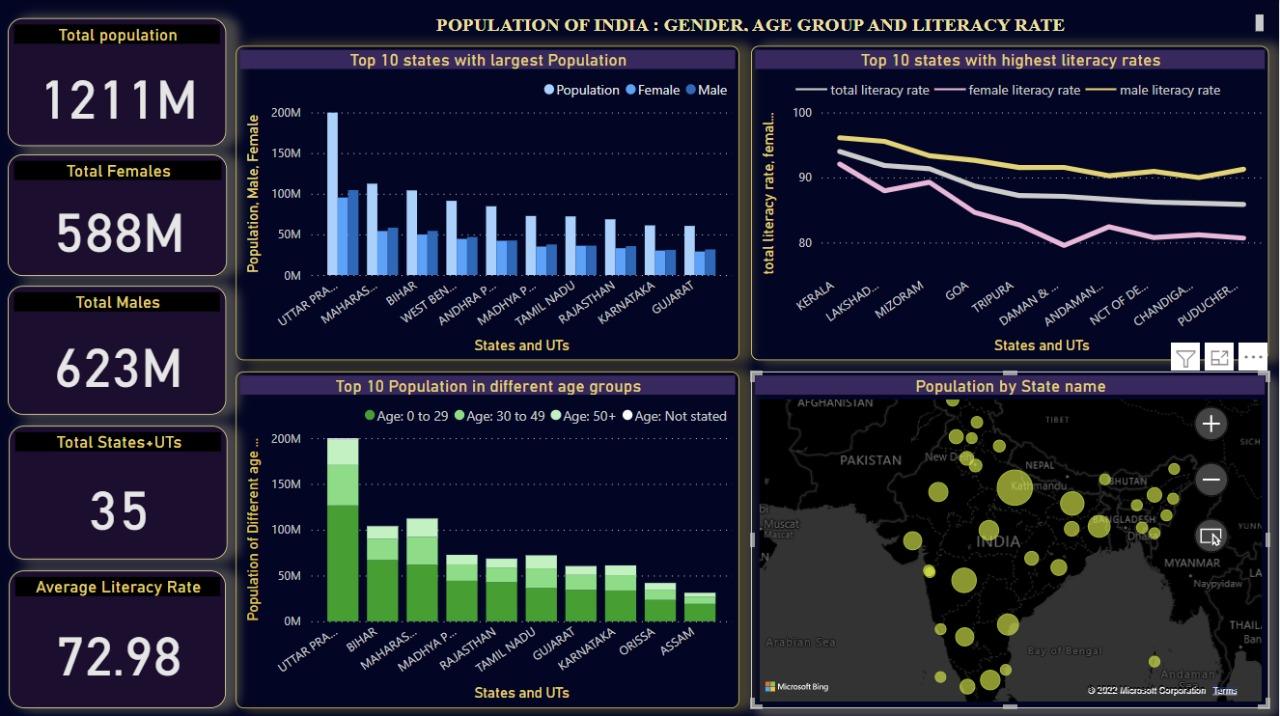

The dashboard page shown, as its layout file describes it:
{"tool":"powerbi","page":{"name":"Page 1","canvas":[1280,720],"ordinal":0},"visuals":[{"type":"card","title":"Total population","fields":{"Values":["Sum(india-districts-census-2011.Population)"]},"box":[9.6,17.9,218.4,127.7],"z":0},{"type":"card","title":"Total Females","fields":{"Values":["Sum(india-districts-census-2011.Female)"]},"box":[9.6,154.4,219.5,121.8],"z":1000},{"type":"card","title":"Total Males","fields":{"Values":["Sum(india-districts-census-2011.Male)"]},"box":[9.6,285.8,218.3,129],"z":2000},{"type":"card","title":"Total States+UTs","fields":{"Values":["Count(india-districts-census-2011.State name)"]},"box":[10.9,425.7,218.3,133.9],"z":3000},{"type":"clusteredColumnChart","title":"Top 10 states with largest Population","fields":{"Y":["Sum(india-districts-census-2011.Population)","Sum(india-districts-census-2011.Female)","Sum(india-districts-census-2011.Male)"],"Category":["india-districts-census-2011.State name"]},"box":[237.6,45.8,502.9,314.8],"z":4000},{"type":"card","title":"Average Literacy Rate","fields":{"Values":["Sum(India.total literacy rate)"]},"box":[11,570,217,137.3],"z":5000},{"type":"lineChart","title":"Top 10 states with highest literacy rates","fields":{"Category":["all ages.state names"],"Y":["Sum(all ages.total literacy rate)","Sum(all ages.female literacy rate)","Sum(all ages.male literacy rate)"]},"box":[752.6,45.8,517.4,314.8],"z":6000},{"type":"columnChart","title":"Top 10 Population in different age groups","fields":{"Category":["india-districts-census-2011.State name"],"Y":["Sum(india-districts-census-2011.Age_Group_0_29)","Sum(india-districts-census-2011.Age_Group_30_49)","Sum(india-districts-census-2011.Age_Group_50)","Sum(india-districts-census-2011.Age not stated)"]},"box":[237.6,371.5,502.9,336.5],"z":7000},{"type":"map","fields":{"Size":["Sum(all ages.total population)"],"Category":["all ages.state names"]},"box":[752.6,371.5,517.4,336.5],"z":8000},{"type":"textbox","box":[252.1,9.6,1017.9,26.5],"z":9000}]}

Visuals, with their boxes in screenshot pixels (x1, y1, x2, y2), scaled from the page's 1280x720 canvas onto the 1280x716 screenshot:
"Total population" card: 10:18:228:145
"Total Females" card: 10:154:229:275
"Total Males" card: 10:284:228:412
"Total States+UTs" card: 11:423:229:556
"Top 10 states with largest Population" clusteredColumnChart: 238:46:740:359
"Average Literacy Rate" card: 11:567:228:703
"Top 10 states with highest literacy rates" lineChart: 753:46:1270:359
"Top 10 Population in different age groups" columnChart: 238:369:740:704
map - Sum(all ages.total population) x all ages.state names: 753:369:1270:704
textbox: 252:10:1270:36
